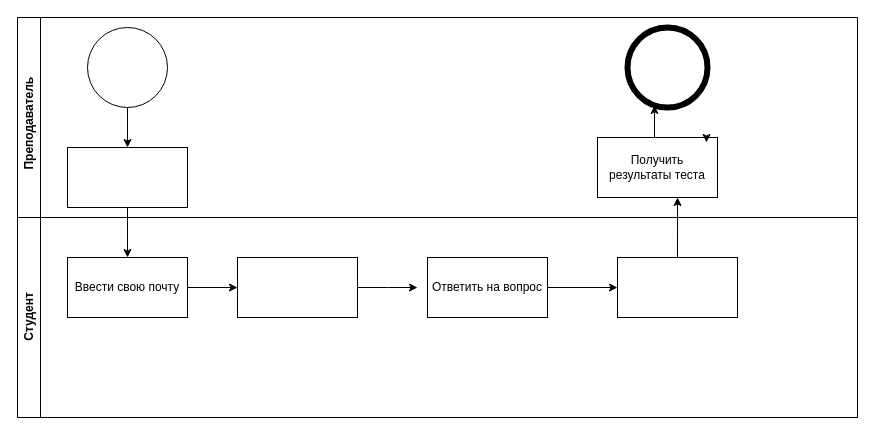
Some shapes in this 875 by 435 pixel diagram are drawn without their labels. The centre of each missing label's shape, as x and y in pixels:
"Направить ссылку на тест" belongs at point (127, 177).
"Отправить форму" belongs at point (677, 287).
"Прочитать вопросы" belongs at point (297, 287).
